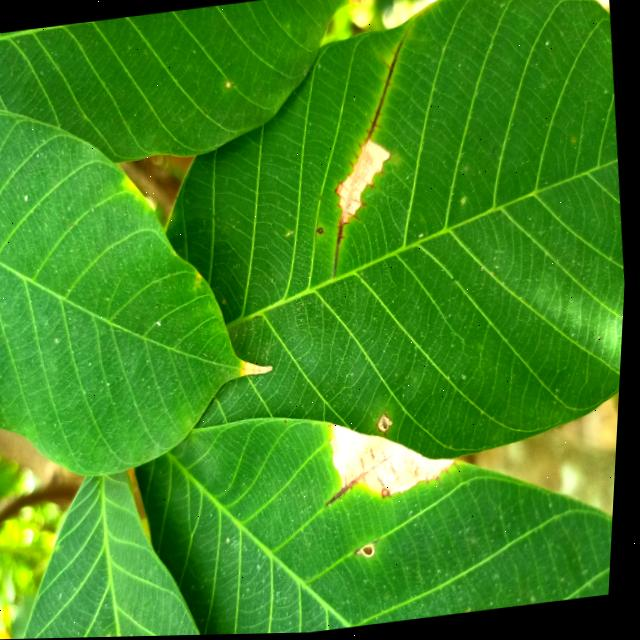Colletotrichum: (378, 412, 399, 435), (385, 488, 396, 499), (319, 228, 326, 235), (110, 635, 119, 638)
Corynespora: (355, 41, 414, 142), (328, 219, 359, 279), (327, 470, 375, 507)
Leaf-Blight: (330, 407, 464, 502), (334, 138, 398, 223), (244, 356, 277, 375)
